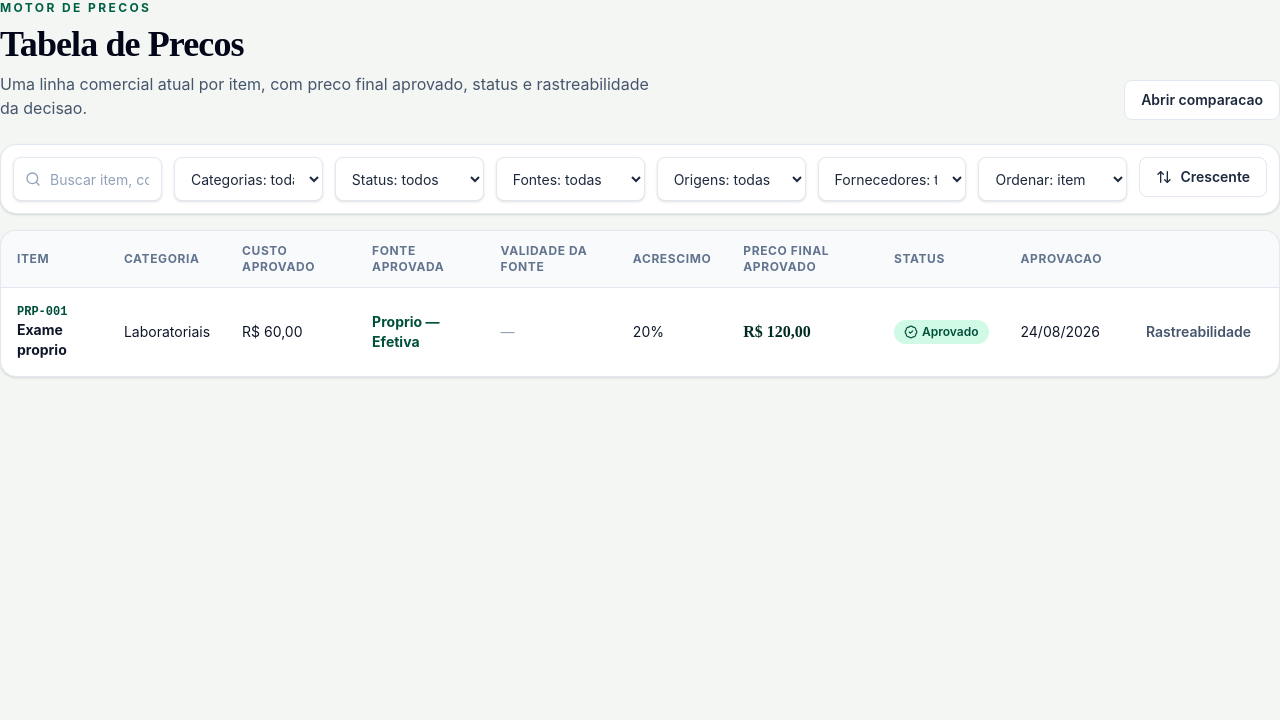
Test: PriceListPage › abre o historico de precos proprios pela rastreabilidade na Tabela de Precos
Click the button "Rastreabilidade" at [1198, 332], box [1134, 314, 1263, 350]
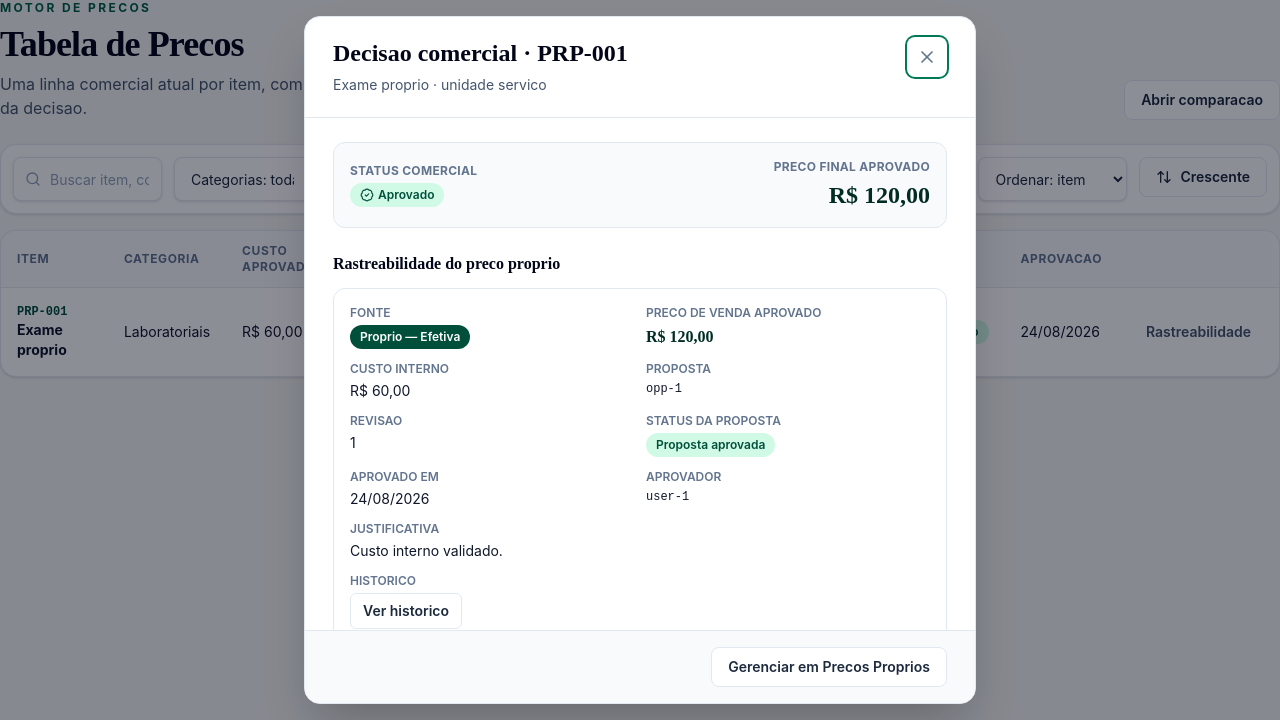
Click the button "Ver historico" at [406, 611], box [350, 593, 462, 629]
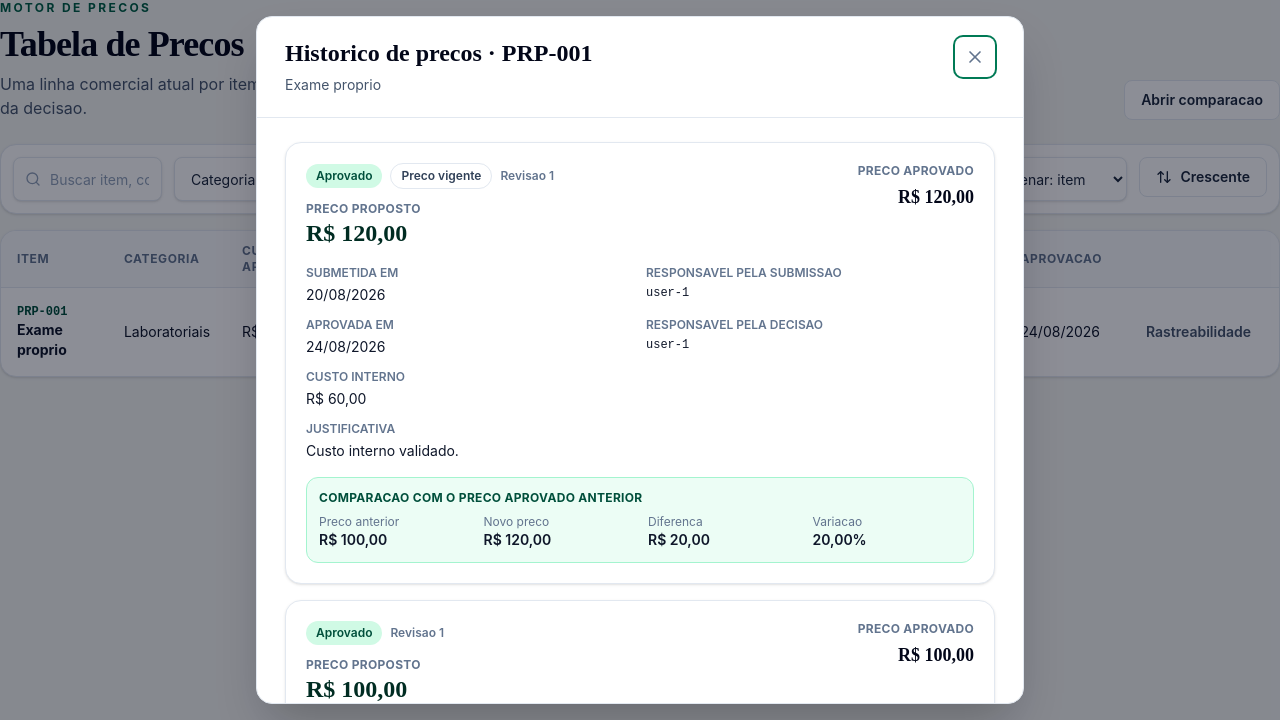
Result: the dialog "Historico de precos · PRP-001" is shown at [256, 16, 1024, 704]
Result: the text "Preco vigente" is shown at [390, 163, 492, 189]
Result: the text "Comparacao com o preco aprovado anterior" is shown at [319, 490, 642, 505]
